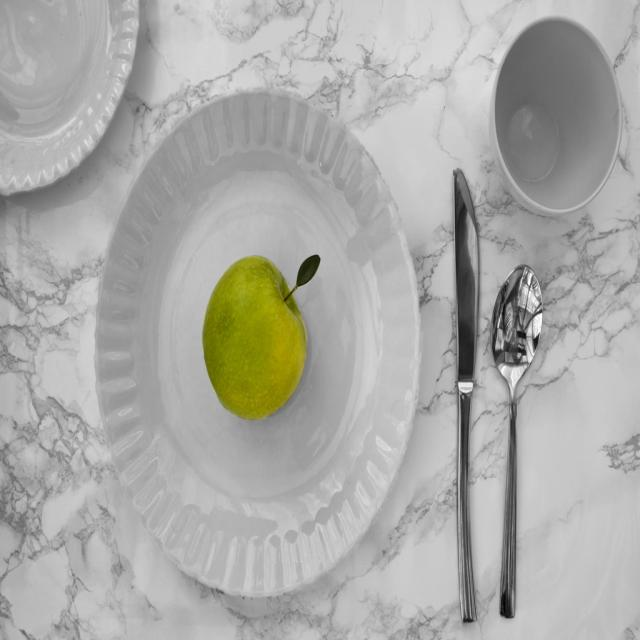non-organic waste: (88, 77, 430, 626)
